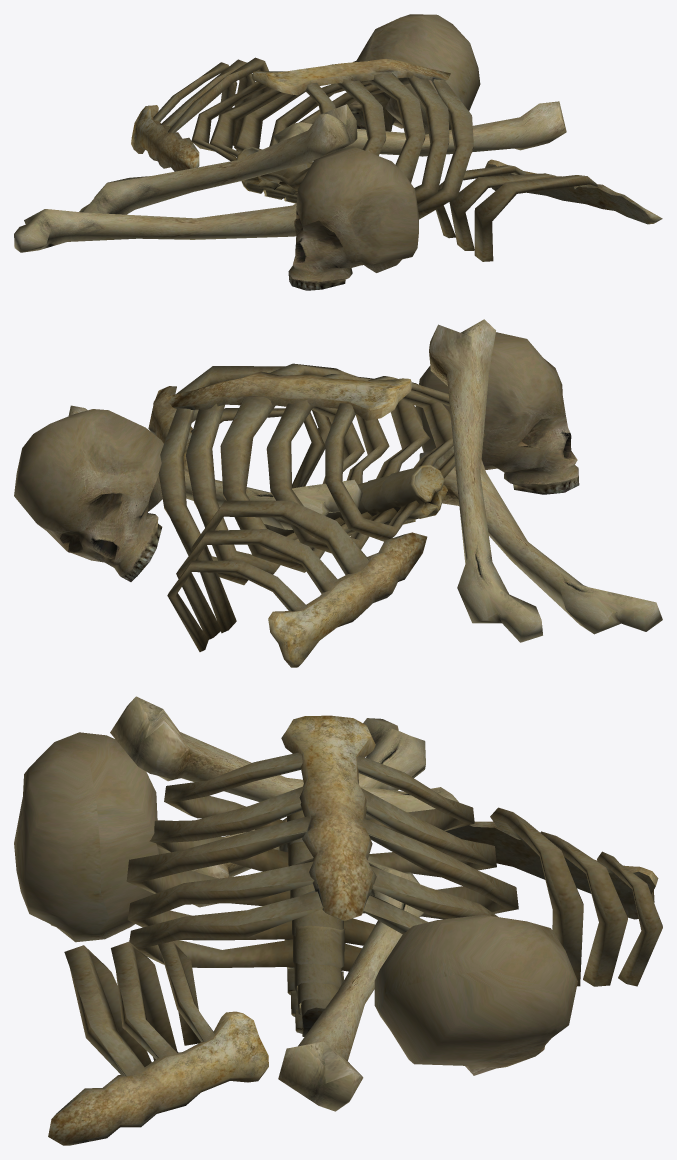
File: bone_pile_human2.dae
3 views of the same model, one above another, from view 1: azimuth 30°, elevation 25°; view 2: azimuth 150°, elevation 25°; view 3: azimuth 270°, elevation 25° (orthographic). The views are drawn at different scales.
Parts seen in each view (by area): view 1: ribbcage, polySurface3, polySurface1, polySurface54, polySurface77, polySurface52, polySurface76, polySurface56; view 2: ribbcage, polySurface76, polySurface52, polySurface1, polySurface3, polySurface54, polySurface77, polySurface56; view 3: ribbcage, polySurface52, polySurface77, polySurface3, polySurface76, polySurface56, polySurface1, polySurface54.
Boxes of the visible parts, box(x1,y1,x2,y2) form: ribbcage: box(191, 58, 473, 219); polySurface3: box(288, 147, 418, 290); polySurface1: box(79, 104, 357, 214); polySurface54: box(14, 203, 296, 252); polySurface77: box(436, 159, 662, 261); polySurface52: box(348, 14, 480, 134); polySurface76: box(131, 57, 271, 171); polySurface56: box(273, 101, 566, 156); ribbcage: box(158, 363, 485, 585); polySurface76: box(167, 500, 427, 667); polySurface52: box(14, 409, 163, 581); polySurface1: box(429, 319, 542, 642); polySurface3: box(415, 332, 579, 494); polySurface54: box(419, 446, 662, 634); polySurface77: box(148, 366, 332, 488); polySurface56: box(68, 405, 363, 529); ribbcage: box(126, 715, 518, 1036); polySurface52: box(374, 915, 577, 1075); polySurface77: box(48, 941, 268, 1145); polySurface3: box(14, 732, 159, 942); polySurface76: box(445, 807, 662, 986); polySurface56: box(278, 855, 423, 1111); polySurface1: box(110, 696, 458, 819); polySurface54: box(159, 718, 425, 907).
Size of the model in its own units: 1.31 by 0.4381 by 0.9588.
